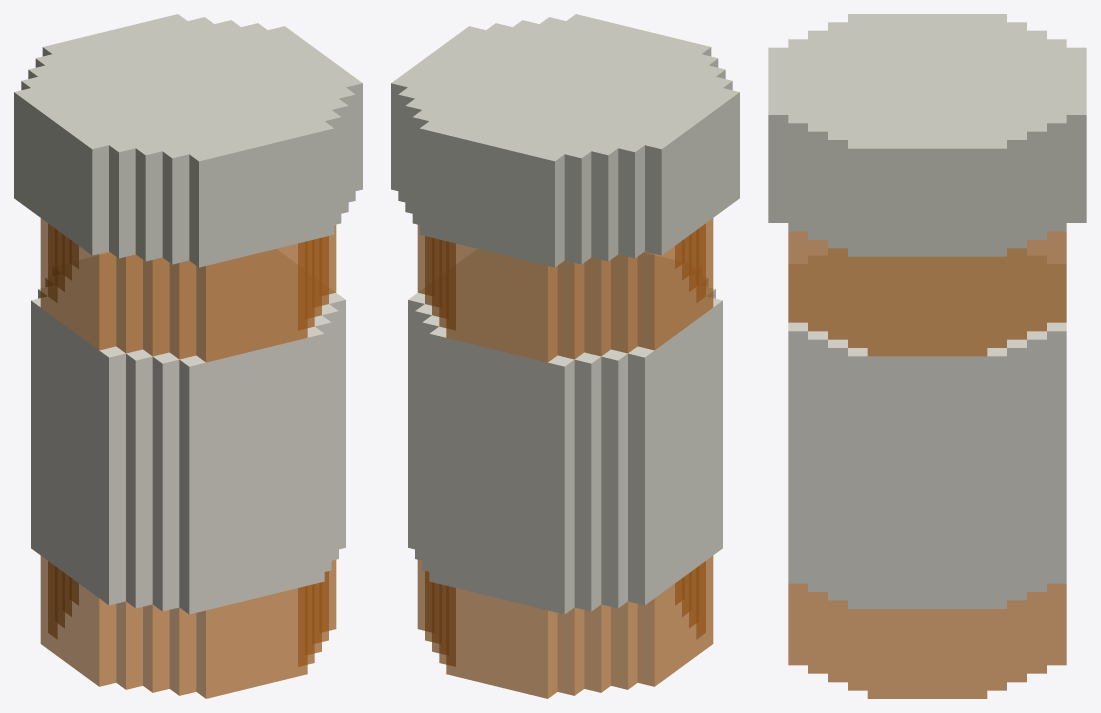
Rendered from fast_acting_sedative.glb.
3 renders of one model, left to right at view 1: azimuth 30°, elevation 25°; view 2: azimuth 150°, elevation 25°; view 3: azimuth 270°, elevation 25°, orthographic.
Visible parts, largest first — view 1: fast_acting_sedative:compound; view 2: fast_acting_sedative:compound; view 3: fast_acting_sedative:compound.
Boxes of the visible parts, x1=… form: fast_acting_sedative:compound: x1=14, y1=14, x2=362, y2=698; fast_acting_sedative:compound: x1=391, y1=14, x2=739, y2=698; fast_acting_sedative:compound: x1=768, y1=14, x2=1086, y2=698.
Size of the model in its own units: 0.032 by 0.062 by 0.032.
